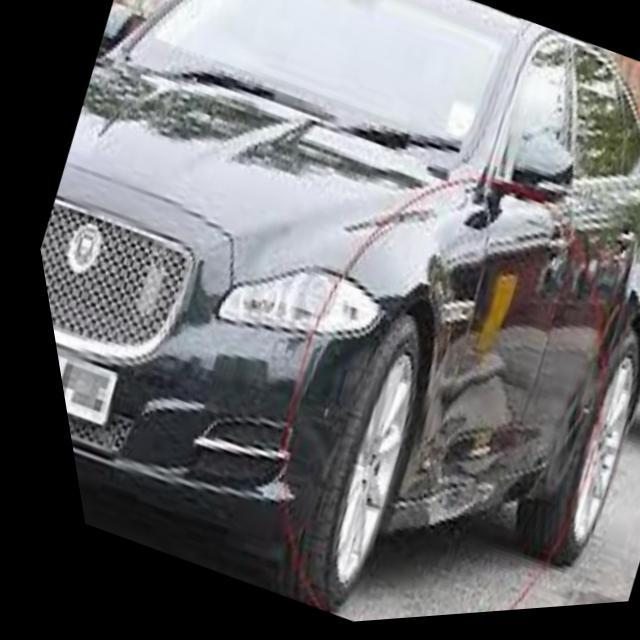dent: (378, 320, 506, 539)
